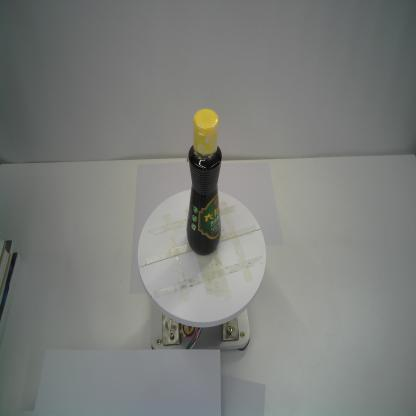Seasoner: (184, 106, 224, 257)
